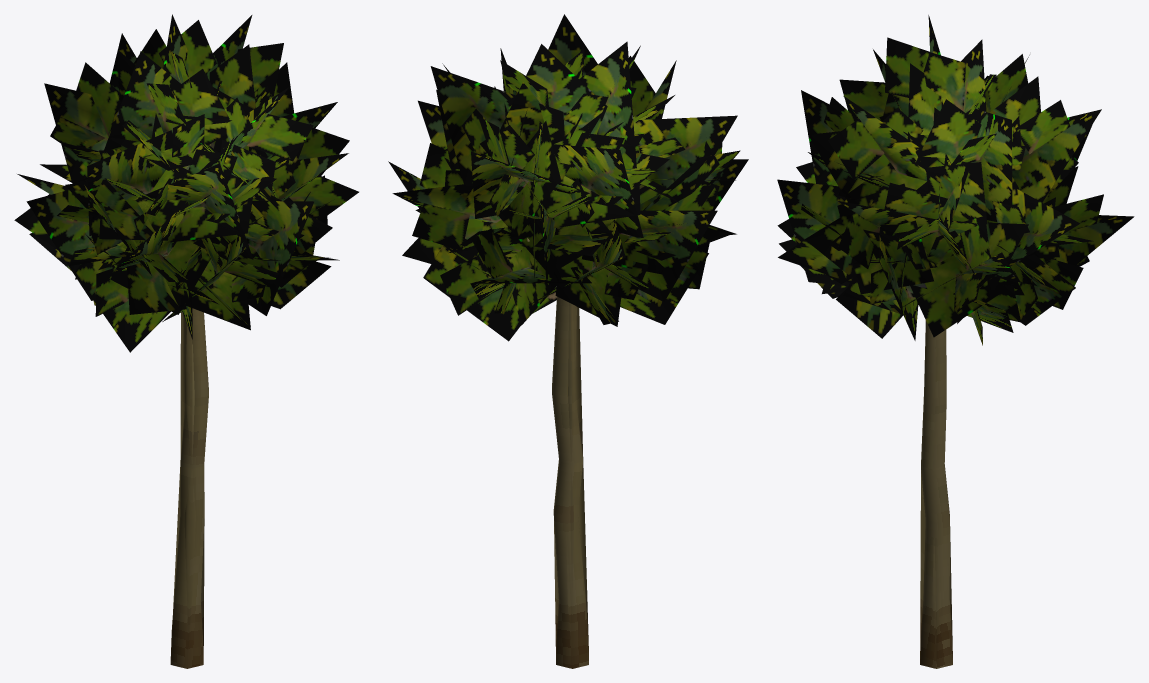
File: plants_un_bayleaf01.gltf
3 views of the same model, side by side, from view 1: azimuth 30°, elevation 25°; view 2: azimuth 150°, elevation 25°; view 3: azimuth 270°, elevation 25° (orthographic).
Visible parts, largest first — view 1: um_plants_un_bayleaf01_model_lod0Shape:plants_un_bayleaf01_b, um_plants_un_bayleaf01_model_lod0Shape:plants_un_bayleaf01_t, um_plants_un_bayleaf01_model_lod1Shape:plants_un_bayleaf01_b, um_plants_un_bayleaf01_model_lod2Shape:plants_un_bayleaf01_t, um_plants_un_bayleaf01_model_lod1Shape:plants_un_bayleaf01_t; view 2: um_plants_un_bayleaf01_model_lod0Shape:plants_un_bayleaf01_b, um_plants_un_bayleaf01_model_lod0Shape:plants_un_bayleaf01_t, um_plants_un_bayleaf01_model_lod1Shape:plants_un_bayleaf01_b, um_plants_un_bayleaf01_model_lod1Shape:plants_un_bayleaf01_t, um_plants_un_bayleaf01_model_lod2Shape:plants_un_bayleaf01_t; view 3: um_plants_un_bayleaf01_model_lod0Shape:plants_un_bayleaf01_b, um_plants_un_bayleaf01_model_lod0Shape:plants_un_bayleaf01_t, um_plants_un_bayleaf01_model_lod1Shape:plants_un_bayleaf01_b, um_plants_un_bayleaf01_model_lod2Shape:plants_un_bayleaf01_t, um_plants_un_bayleaf01_model_lod1Shape:plants_un_bayleaf01_t.
Boxes of the visible parts, left/top/right/bottom form: um_plants_un_bayleaf01_model_lod0Shape:plants_un_bayleaf01_b: left=14, top=14, right=358, bottom=352; um_plants_un_bayleaf01_model_lod0Shape:plants_un_bayleaf01_t: left=170, top=308, right=208, bottom=668; um_plants_un_bayleaf01_model_lod1Shape:plants_un_bayleaf01_b: left=75, top=88, right=313, bottom=329; um_plants_un_bayleaf01_model_lod2Shape:plants_un_bayleaf01_t: left=173, top=344, right=203, bottom=664; um_plants_un_bayleaf01_model_lod1Shape:plants_un_bayleaf01_t: left=180, top=312, right=204, bottom=645; um_plants_un_bayleaf01_model_lod0Shape:plants_un_bayleaf01_b: left=388, top=14, right=748, bottom=341; um_plants_un_bayleaf01_model_lod0Shape:plants_un_bayleaf01_t: left=527, top=238, right=588, bottom=668; um_plants_un_bayleaf01_model_lod1Shape:plants_un_bayleaf01_b: left=483, top=111, right=678, bottom=326; um_plants_un_bayleaf01_model_lod1Shape:plants_un_bayleaf01_t: left=554, top=302, right=582, bottom=667; um_plants_un_bayleaf01_model_lod2Shape:plants_un_bayleaf01_t: left=570, top=457, right=588, bottom=647; um_plants_un_bayleaf01_model_lod0Shape:plants_un_bayleaf01_b: left=777, top=15, right=1134, bottom=345; um_plants_un_bayleaf01_model_lod0Shape:plants_un_bayleaf01_t: left=920, top=320, right=952, bottom=668; um_plants_un_bayleaf01_model_lod1Shape:plants_un_bayleaf01_b: left=822, top=111, right=1035, bottom=335; um_plants_un_bayleaf01_model_lod2Shape:plants_un_bayleaf01_t: left=920, top=470, right=936, bottom=667; um_plants_un_bayleaf01_model_lod1Shape:plants_un_bayleaf01_t: left=921, top=397, right=952, bottom=663.
Bounding box in the file's own units: 0.9784 × 1.92 × 0.9976.
2 materials, 2 textured.
